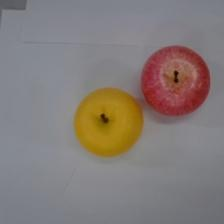red: (140, 44, 211, 117)
yellow: (73, 86, 143, 157)
